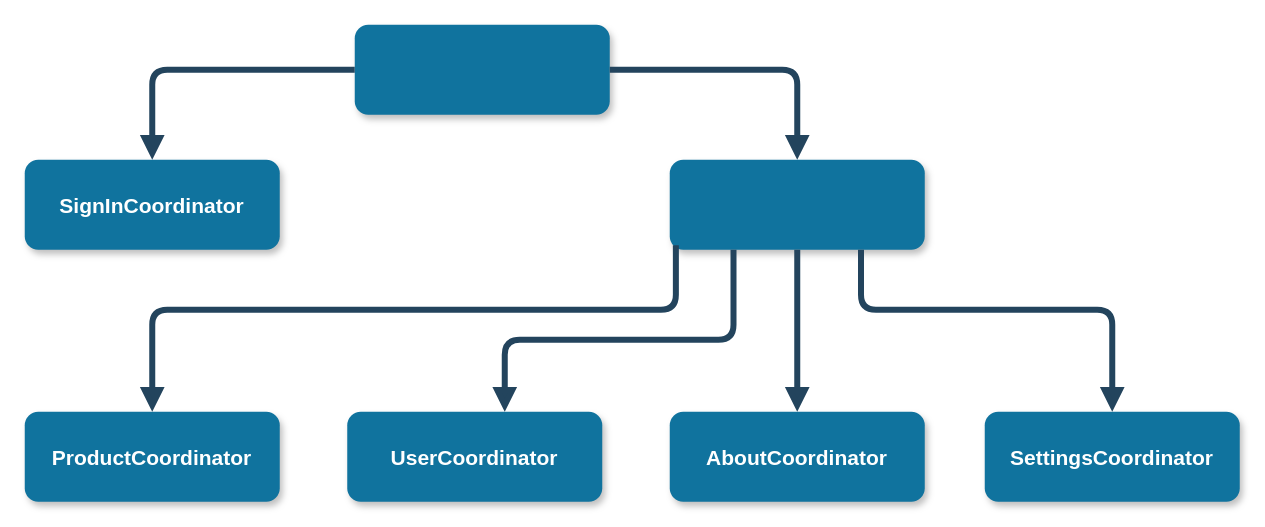
This 1265x527 diagram has some shape labels left out. Here are the shapes that lost their labels. From the top down, the centre of each, then its label:
At point 483,71: "AppCoordinator".
At point 798,206: "MainTabCoordinator".
